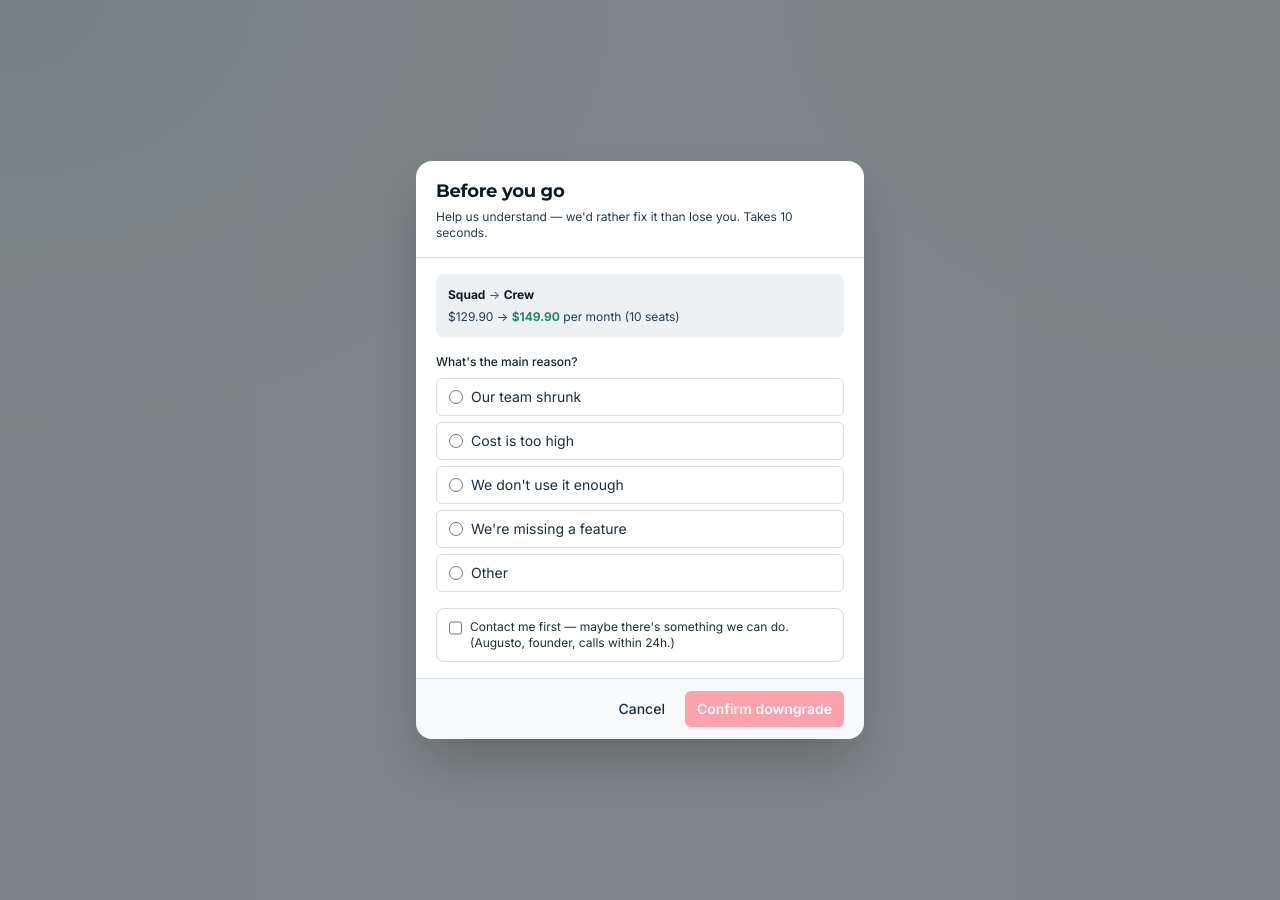
DowngradeReasonModal › enables Confirm once a reason is selected
The width and height of the screenshot is (1280, 900).
Step 1. Click the radio button labelled "Cost is too high" → click(456, 441), box [449,434,463,448]
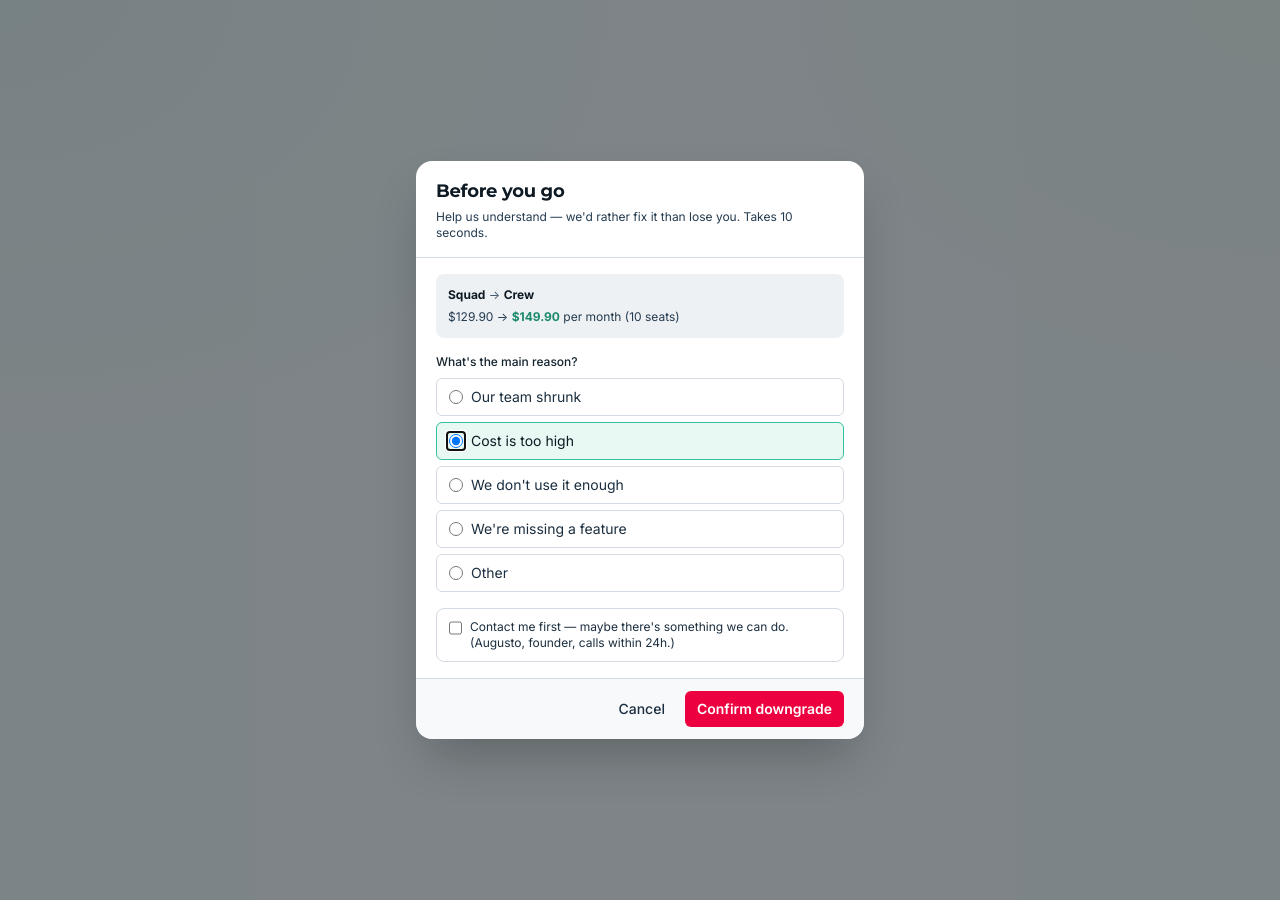
Expected: the button "Confirm downgrade" is enabled, [685,691,844,727]
